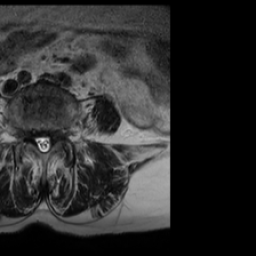CCS_stenosis: (39, 128, 46, 157)
LFS_severe_stenosis: (52, 126, 61, 146)
LLS_stenosis: (46, 129, 53, 154)
RFS_severe_stenosis: (25, 124, 33, 146)
RLS_severe_stenosis: (33, 129, 39, 154)
